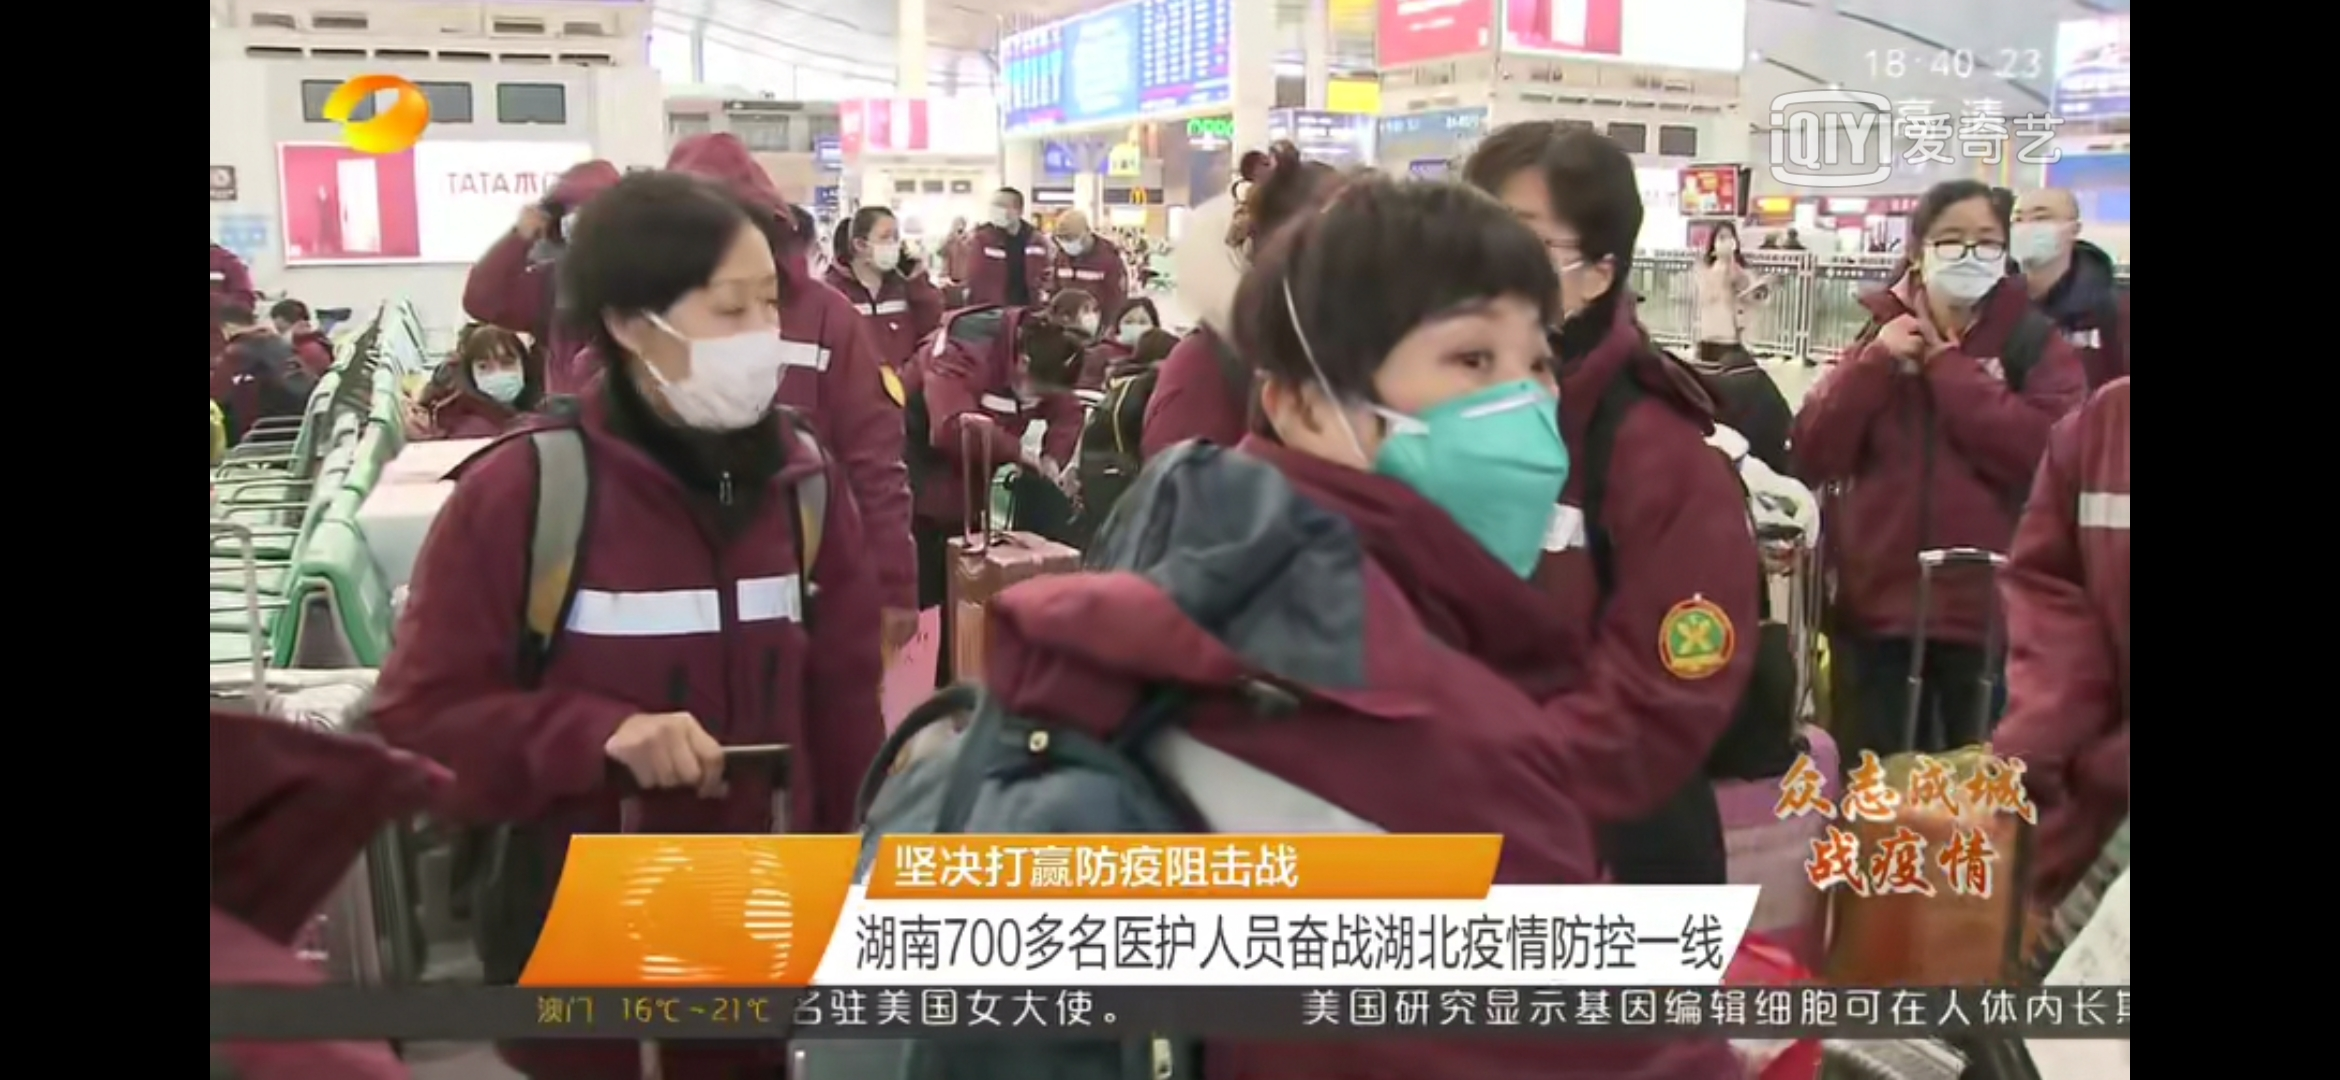correctlyWear: (1333, 298, 1592, 585), (601, 258, 791, 436), (1903, 219, 2006, 321), (2007, 195, 2074, 277), (473, 348, 528, 410), (851, 221, 903, 274), (1118, 307, 1154, 348), (1057, 227, 1092, 261), (1072, 301, 1101, 336), (992, 192, 1016, 228), (1715, 230, 1739, 257)
